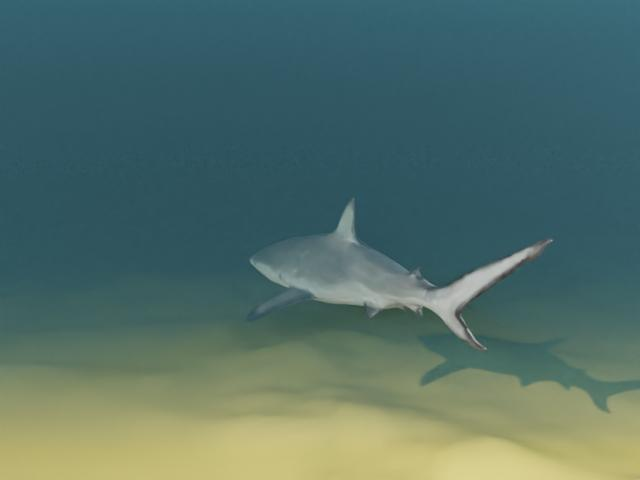Carribean Shark.001: (245, 197, 552, 351)
